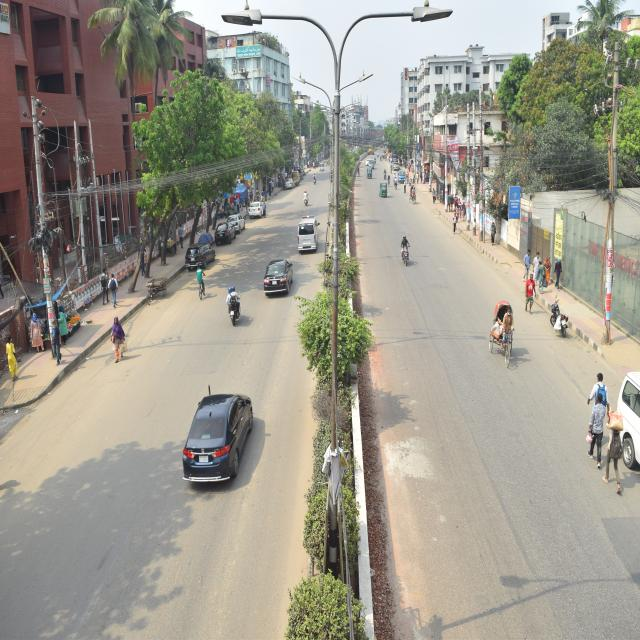car: (183, 374, 250, 478), (265, 254, 290, 292), (185, 243, 215, 267), (215, 222, 235, 235), (248, 198, 262, 215), (230, 206, 240, 227), (285, 179, 295, 190)
microbus: (294, 218, 324, 250)
motorbike: (218, 287, 245, 324), (398, 230, 419, 270), (298, 182, 315, 208), (311, 170, 317, 184)
